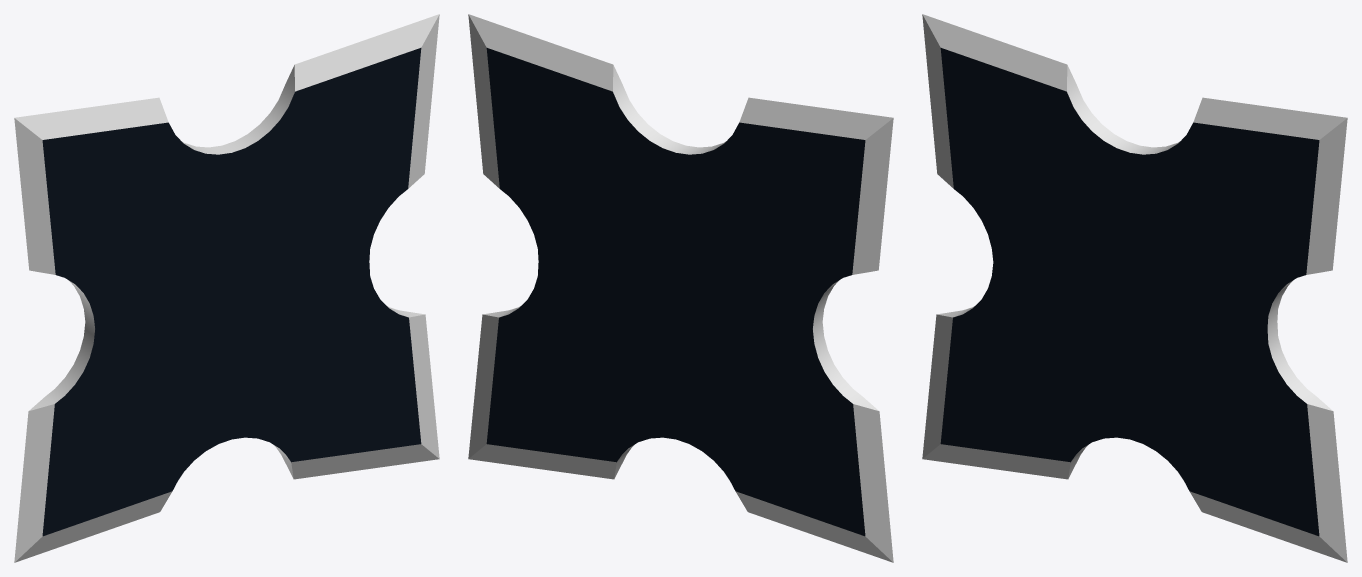
The model's file is shuriken-by-ipoly3d-fW0rSClAOi.glb.
3 renders of one model, left to right at view 1: azimuth 30°, elevation 25°; view 2: azimuth 150°, elevation 25°; view 3: azimuth 330°, elevation 25°, orthographic.
Visible parts, largest first — view 1: Shuriken_22; view 2: Shuriken_22; view 3: Shuriken_22.
Boxes of the visible parts, x1,y1,x2,y2 form: Shuriken_22: (14,14,439,562); Shuriken_22: (468,14,893,562); Shuriken_22: (922,14,1347,562).
Bounding box in the file's own units: 2 × 2 × 0.0802.
